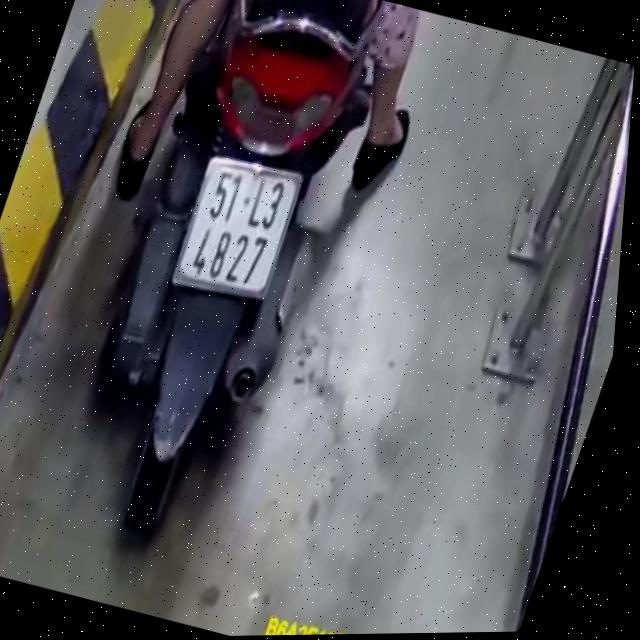motorcycle: (23, 0, 419, 576)
plate: (161, 145, 314, 312)
